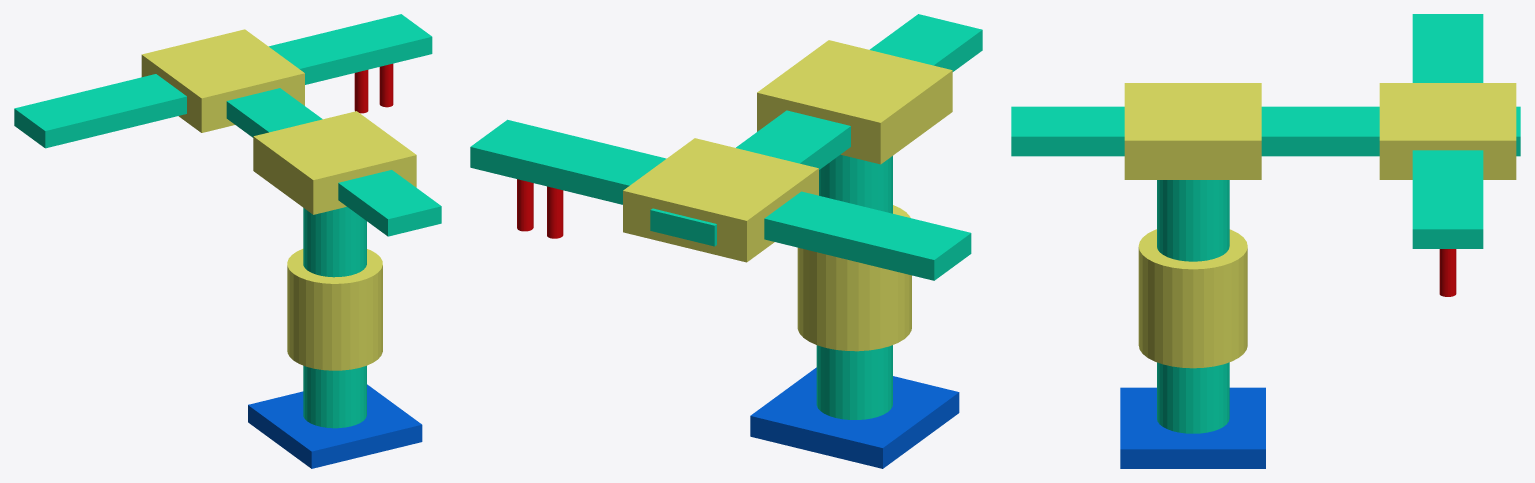
File: Roboterarm2.gltf
3 views of the same model, side by side, from view 1: azimuth 30°, elevation 25°; view 2: azimuth 150°, elevation 25°; view 3: azimuth 270°, elevation 25° (orthographic). The views are drawn at different scales.
Visible parts, largest first — view 1: Cube.002, Cube.003, Cylinder, Cube, Cylinder.001, Cube.001, Cube.004, Cylinder.002, Cylinder.003; view 2: Cube.002, Cube.003, Cube, Cube.001, Cylinder, Cube.004, Cylinder.001, Cylinder.002, Cylinder.003; view 3: Cube.003, Cylinder, Cube.004, Cube.002, Cube, Cylinder.001, Cube.001, Cylinder.002.
Boxes of the visible parts, bbox=[...] form: Cube.002: bbox=[14, 14, 432, 148]; Cube.003: bbox=[253, 111, 416, 214]; Cylinder: bbox=[287, 249, 382, 370]; Cube: bbox=[141, 29, 304, 132]; Cylinder.001: bbox=[303, 207, 366, 428]; Cube.001: bbox=[248, 384, 422, 468]; Cube.004: bbox=[226, 88, 441, 236]; Cylinder.002: bbox=[379, 63, 393, 107]; Cylinder.003: bbox=[354, 70, 368, 113]; Cube.002: bbox=[470, 119, 971, 280]; Cube.003: bbox=[757, 40, 952, 164]; Cube: bbox=[623, 138, 818, 262]; Cube.001: bbox=[750, 367, 959, 468]; Cylinder: bbox=[797, 205, 911, 351]; Cube.004: bbox=[650, 14, 982, 246]; Cylinder.001: bbox=[816, 154, 892, 419]; Cylinder.002: bbox=[517, 179, 533, 231]; Cylinder.003: bbox=[547, 186, 563, 238]; Cube.003: bbox=[1124, 83, 1261, 179]; Cylinder: bbox=[1138, 229, 1247, 368]; Cube.004: bbox=[1011, 106, 1520, 156]; Cube.002: bbox=[1412, 14, 1483, 248]; Cube: bbox=[1379, 83, 1516, 179]; Cylinder.001: bbox=[1157, 180, 1229, 433]; Cube.001: bbox=[1120, 387, 1265, 468]; Cylinder.002: bbox=[1439, 249, 1456, 296].
Size of the model in its own units: 14 by 9.9 by 14.
